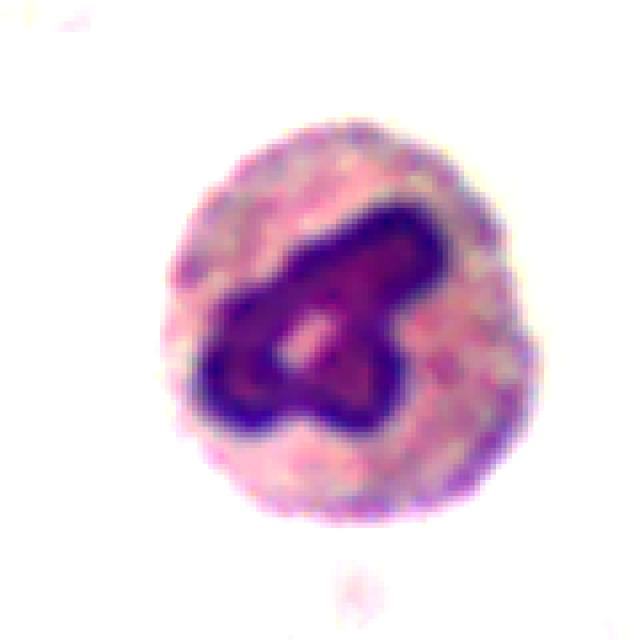WBC: (155, 112, 549, 533)
